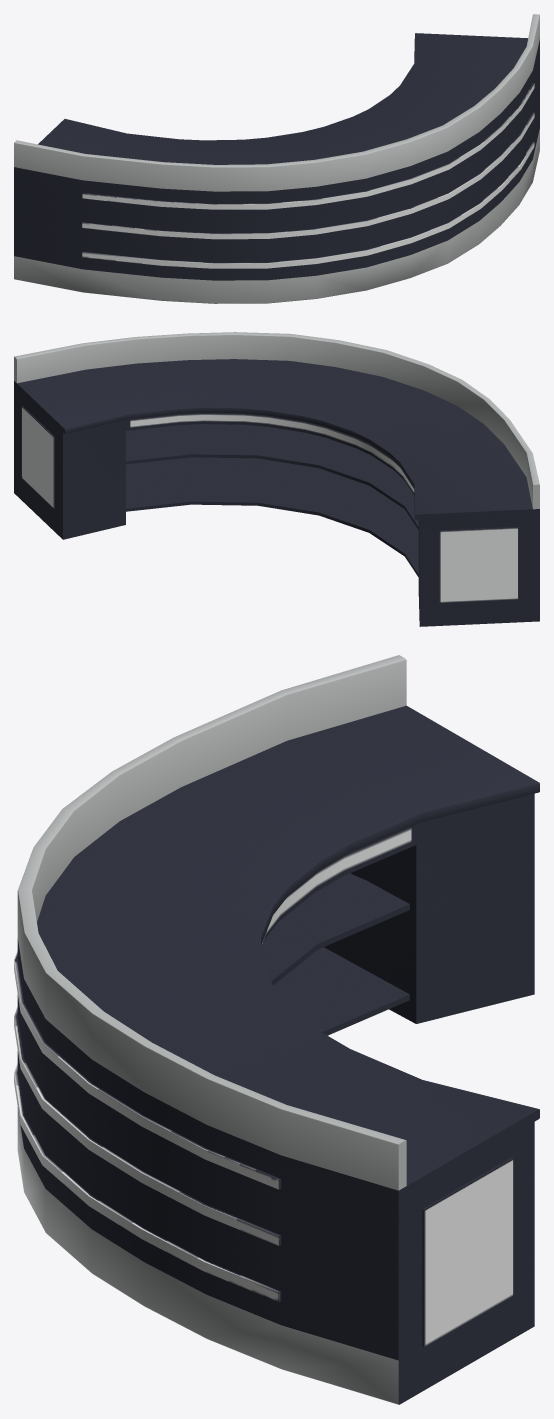
Rendered from DJTable01.FBX.
The picture shows the model from 3 angles, top to bottom: view 1: azimuth 30°, elevation 25°; view 2: azimuth 150°, elevation 25°; view 3: azimuth 270°, elevation 25°; orthographic projection. The views are drawn at different scales.
Parts seen in each view (by area): view 1: DJTable01; view 2: DJTable01; view 3: DJTable01.
Part boxes in pixels (x1=…): DJTable01: x1=14, y1=14, x2=539, y2=303; DJTable01: x1=14, y1=332, x2=539, y2=626; DJTable01: x1=14, y1=655, x2=539, y2=1404.
Bounding box in the file's own units: 440 × 109 × 200.
